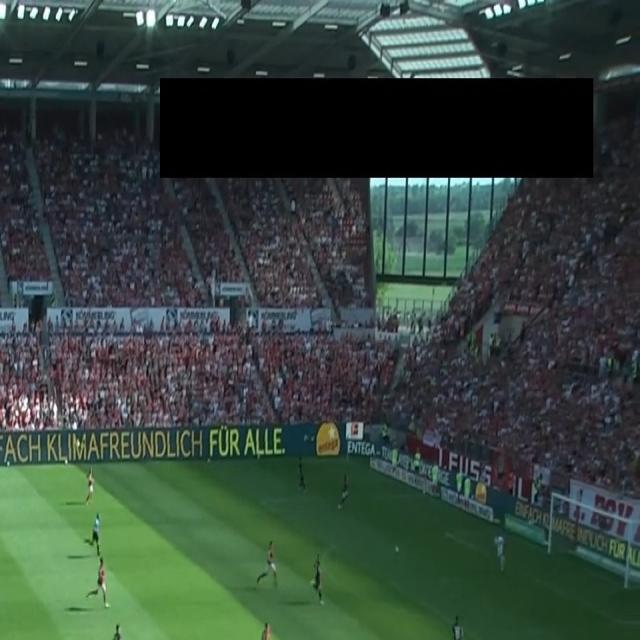ball: (394, 545, 400, 553)
